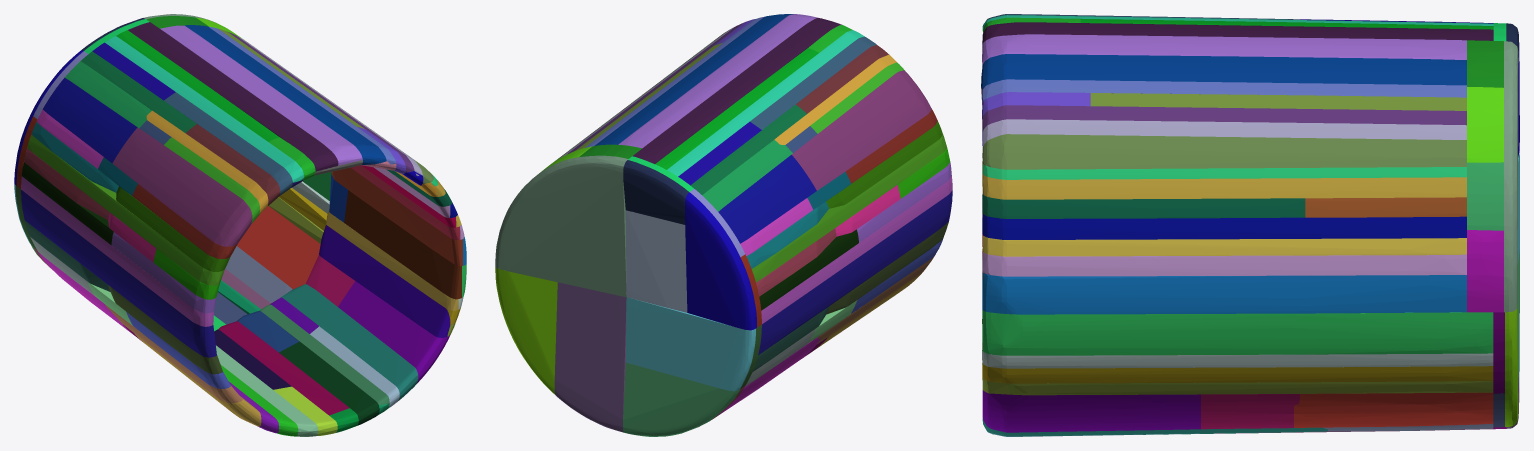
File: coacd_collision.obj
3 views of the same model, side by side, from view 1: azimuth 30°, elevation 25°; view 2: azimuth 150°, elevation 25°; view 3: azimuth 270°, elevation 25° (orthographic). The views are drawn at different scales.
Visible parts, largest first — view 1: geometry_28, geometry_20, geometry_26, geometry_71, geometry_98, geometry_60, geometry_40, geometry_32, geometry_86, geometry_104, geometry_30, geometry_42 (+63 smaller); view 2: geometry_0, geometry_1, geometry_2, geometry_28, geometry_5, geometry_3, geometry_20, geometry_6, geometry_4, geometry_26, geometry_104, geometry_40 (+37 smaller); view 3: geometry_36, geometry_29, geometry_96, geometry_42, geometry_68, geometry_49, geometry_106, geometry_40, geometry_90, geometry_32, geometry_48, geometry_84 (+24 smaller).
Boxes of the visible parts, <box> form: geometry_28: <box>112,127,252,246</box>; geometry_20: <box>21,190,216,357</box>; geometry_26: <box>128,22,338,171</box>; geometry_71: <box>319,225,450,337</box>; geometry_98: <box>344,190,461,299</box>; geometry_60: <box>281,284,418,400</box>; geometry_40: <box>160,25,362,165</box>; geometry_32: <box>338,281,450,383</box>; geometry_86: <box>237,206,320,289</box>; geometry_104: <box>43,77,137,163</box>; geometry_30: <box>27,135,224,285</box>; geometry_42: <box>185,25,386,164</box>; geometry_0: <box>495,155,628,297</box>; geometry_1: <box>554,282,626,432</box>; geometry_2: <box>626,297,755,391</box>; geometry_28: <box>791,70,931,190</box>; geometry_5: <box>685,192,756,330</box>; geometry_3: <box>623,362,740,436</box>; geometry_20: <box>758,190,952,354</box>; geometry_6: <box>625,210,687,312</box>; geometry_4: <box>495,267,557,394</box>; geometry_26: <box>632,18,841,163</box>; geometry_104: <box>718,155,816,243</box>; geometry_40: <box>618,14,818,148</box>; geometry_36: <box>982,310,1493,355</box>; geometry_29: <box>982,273,1466,314</box>; geometry_96: <box>982,134,1466,169</box>; geometry_42: <box>981,54,1466,89</box>; geometry_68: <box>982,214,1466,239</box>; geometry_49: <box>982,252,1466,276</box>; geometry_106: <box>982,175,1466,199</box>; geometry_40: <box>982,34,1466,64</box>; geometry_90: <box>982,235,1466,256</box>; geometry_32: <box>982,390,1200,432</box>; geometry_48: <box>982,363,1493,383</box>; geometry_84: <box>982,119,1466,146</box>.
Size of the model in its own units: 83.17 by 83.17 by 106.
